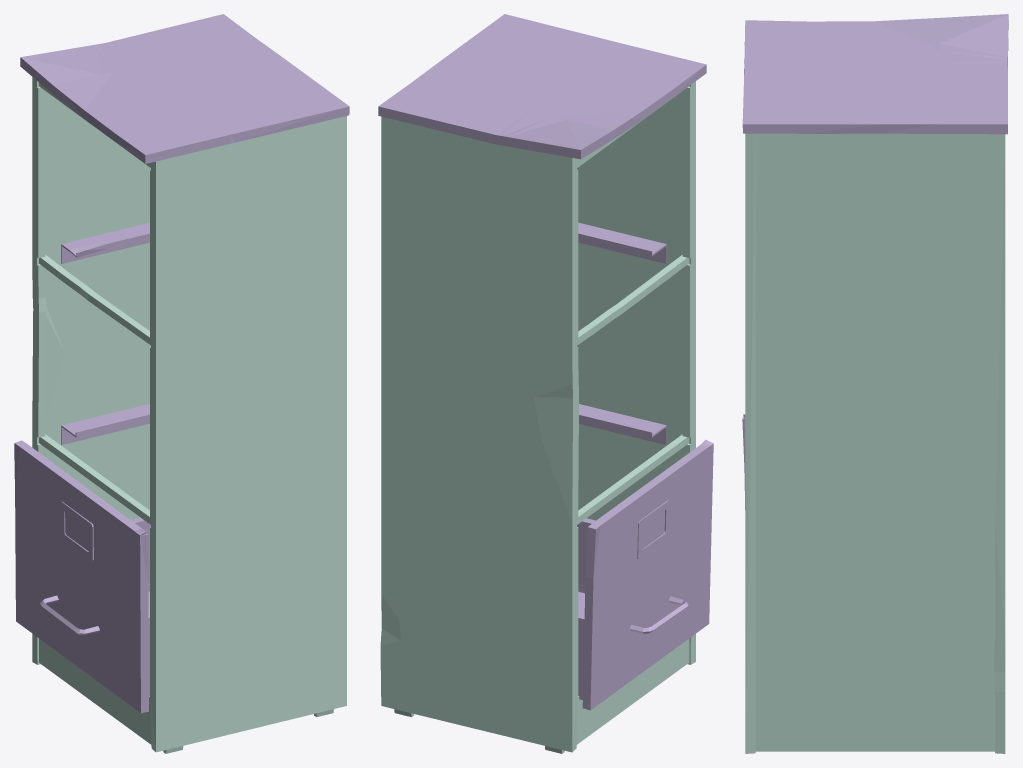
File: boxstrong2.fbx
The picture shows the model from 3 angles, left to right: view 1: azimuth 30°, elevation 25°; view 2: azimuth 150°, elevation 25°; view 3: azimuth 270°, elevation 25°; orthographic projection. The views are drawn at different scales.
Visible parts, largest first — view 1: mex_covers_strongbox_011; view 2: mex_covers_strongbox_011; view 3: mex_covers_strongbox_011.
Part boxes in pixels (x1=…): mex_covers_strongbox_011: x1=14, y1=14, x2=349, y2=753; mex_covers_strongbox_011: x1=378, y1=14, x2=713, y2=753; mex_covers_strongbox_011: x1=742, y1=14, x2=1008, y2=753.
Size of the model in its own units: 72.5 by 185 by 69.49.
